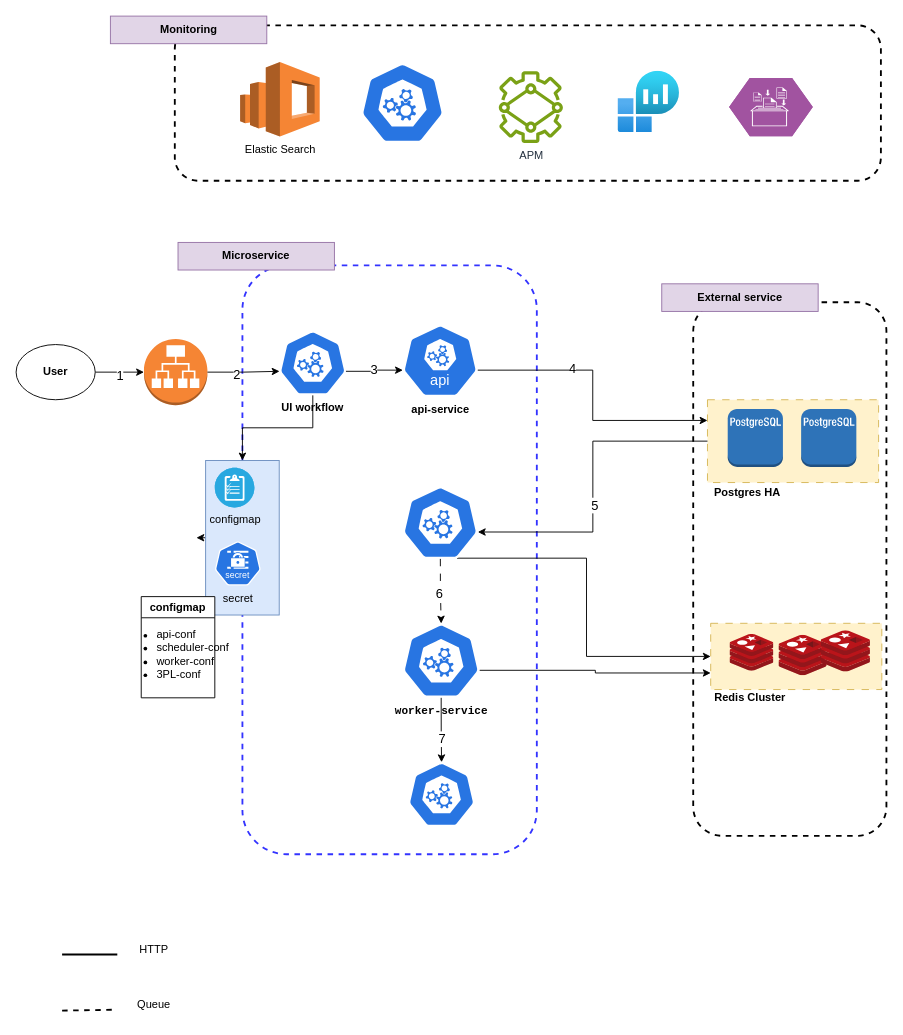
The diagram is 903 pixels wide and 1035 high, and some of its shapes have lost their labels. Each missing label, with the centre of its shape:
3PL-service: (x=441, y=794)
ALB: (x=175, y=371)
fluentD: (x=770, y=106)
Kipana: (x=402, y=102)
Logstash: (x=648, y=101)
scheduler-service: (x=440, y=522)
